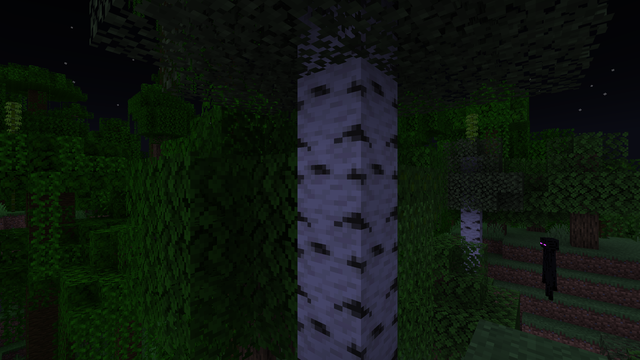endermens: (540, 234, 557, 300)
